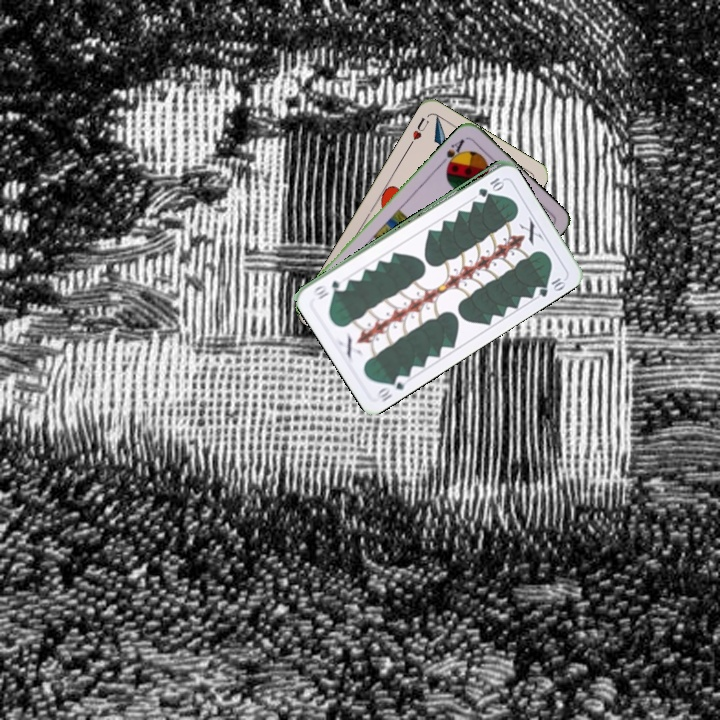G10: (372, 371, 411, 404), (474, 174, 505, 198)
HU: (405, 113, 432, 149)
SA: (437, 135, 467, 171)
